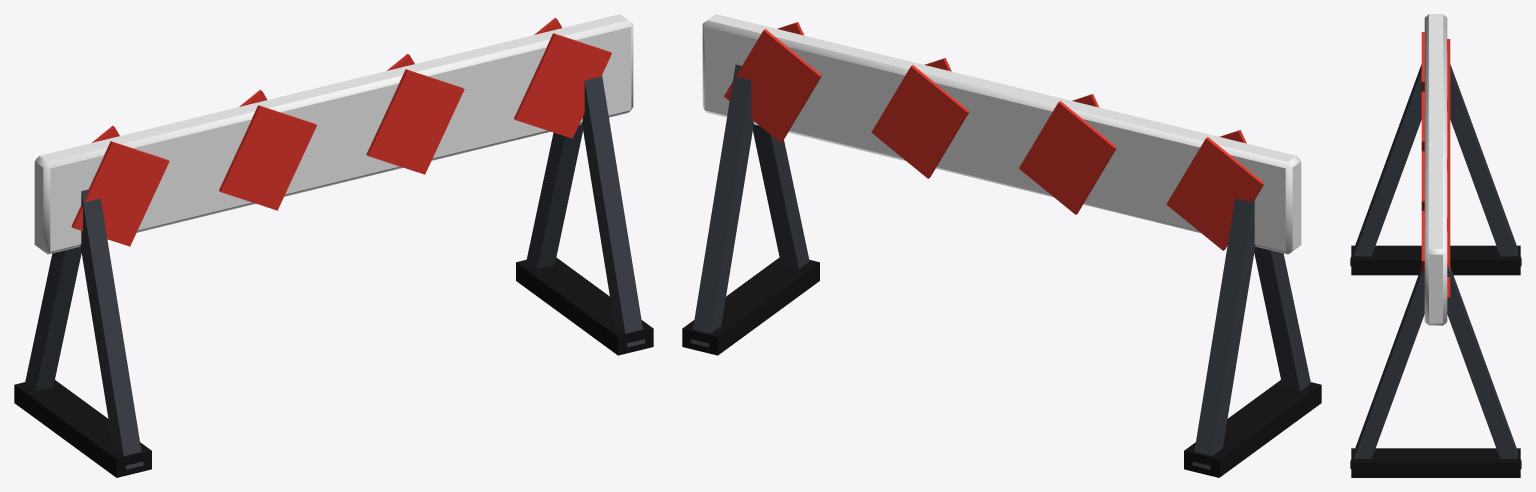
The model's file is barrier.glb.
3 views of the same model, side by side, from view 1: azimuth 30°, elevation 25°; view 2: azimuth 150°, elevation 25°; view 3: azimuth 270°, elevation 25° (orthographic). The views are drawn at different scales.
Parts seen in each view (by area): view 1: PROP_barrier; view 2: PROP_barrier; view 3: PROP_barrier.
Part boxes in pixels (left/top/right/bottom): PROP_barrier: left=14, top=14, right=653, bottom=477; PROP_barrier: left=682, top=14, right=1321, bottom=477; PROP_barrier: left=1350, top=14, right=1521, bottom=477.
Size of the model in its own units: 2 by 0.9556 by 0.6075.
